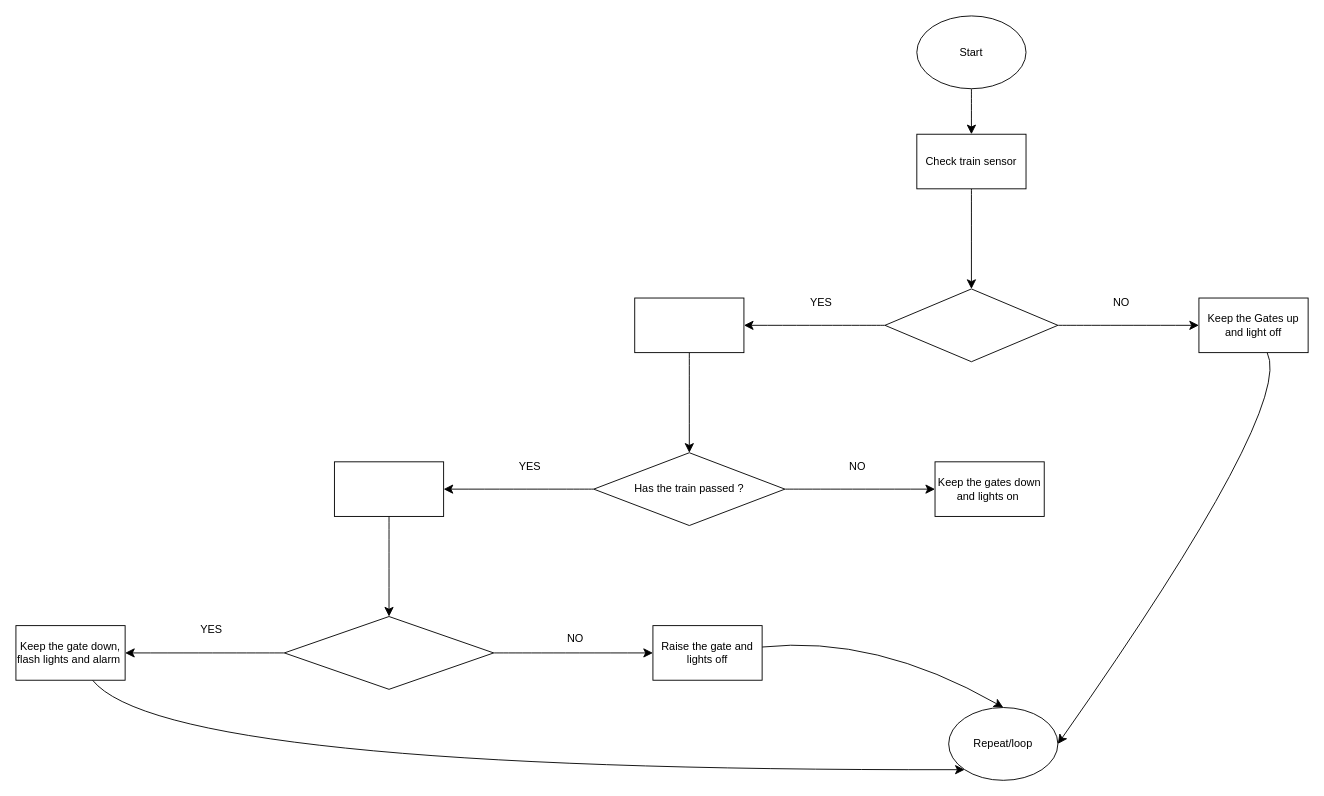
Image size: 1324x796. Some labels were removed from this diagram. The shapes that lost their labels are listed below. From the top down, each one's centre as x and y in pixels, then its label:
At pixel 689 325: "Lower the Gate and turn on the lights".
At pixel 971 325: "Is the train approaching?".
At pixel 389 488: "Check vehicle sensor".
At pixel 388 652: "Is there a vehicle on the track?".
